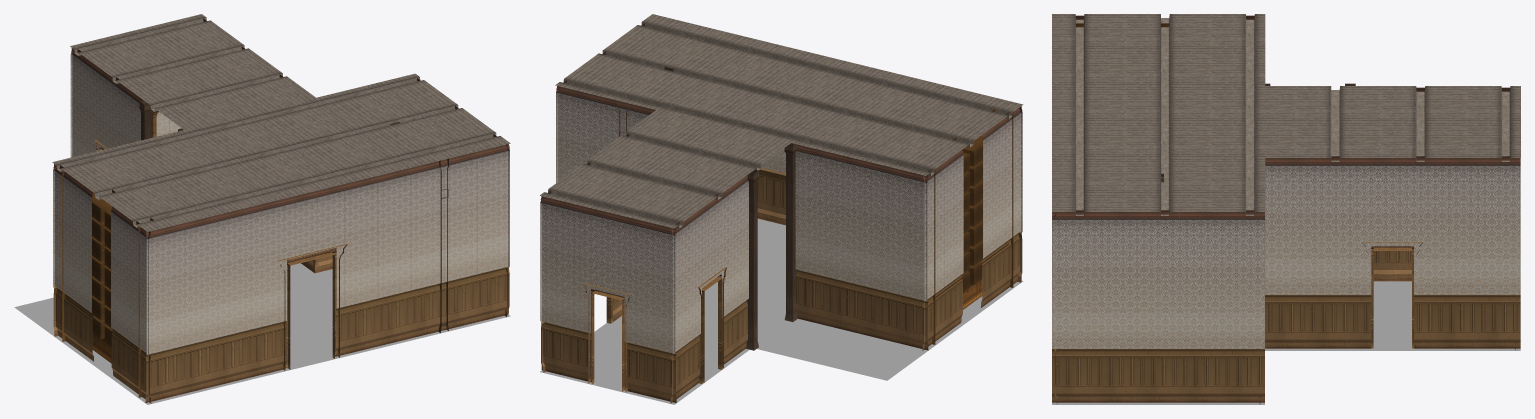
Rendered from room_entrance_ground.fbx.
3 renders of one model, left to right at view 1: azimuth 30°, elevation 25°; view 2: azimuth 150°, elevation 25°; view 3: azimuth 270°, elevation 25°, orthographic. The views are drawn at different scales.
Visible parts, largest first — view 1: room; view 2: room; view 3: room.
Boxes of the visible parts, x1,y1,x2,y2 form: room: [14, 14, 510, 404]; room: [540, 14, 1023, 404]; room: [1052, 14, 1520, 404].
Size of the model in its own units: 1100 by 500 by 1101.
Materials: 10 (9 with a texture image).
